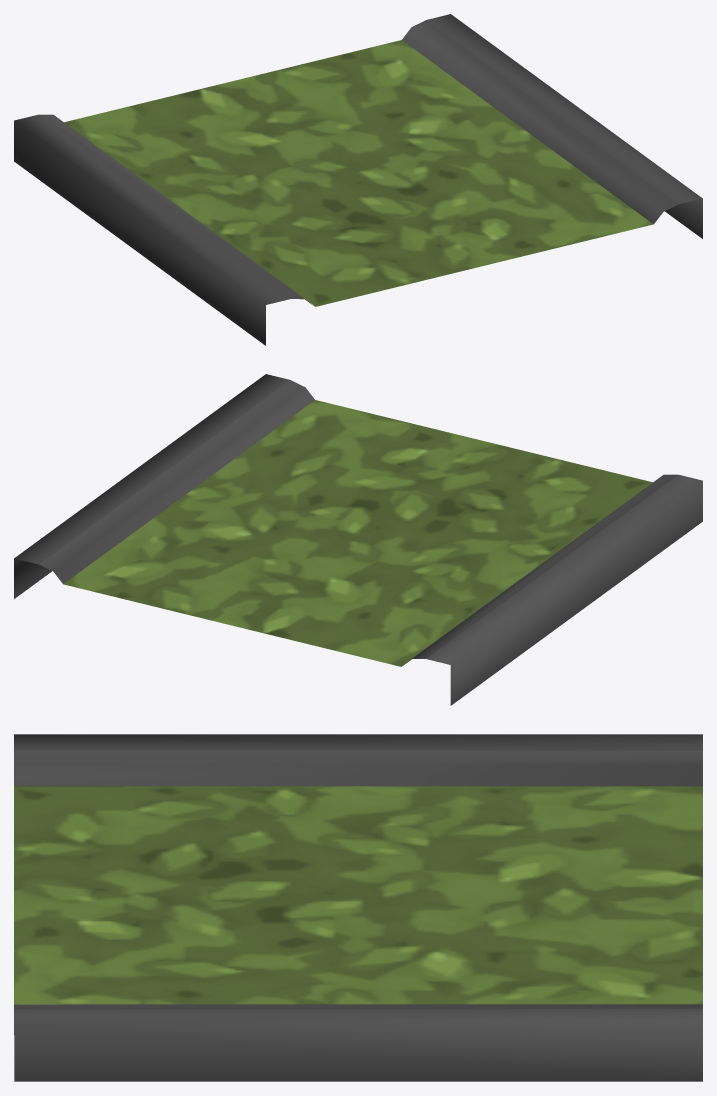
Rendered from GrassPlateau_Straight.fbx.
The picture shows the model from 3 angles, top to bottom: view 1: azimuth 30°, elevation 25°; view 2: azimuth 150°, elevation 25°; view 3: azimuth 270°, elevation 25°; orthographic projection. The views are drawn at different scales.
Visible parts, largest first — view 1: Straight_End.002; view 2: Straight_End.002; view 3: Straight_End.002.
Part boxes in pixels (left/top/right/bottom): Straight_End.002: left=14, top=14, right=702, bottom=345; Straight_End.002: left=14, top=374, right=702, bottom=705; Straight_End.002: left=14, top=734, right=702, bottom=1081.
Size of the model in its own units: 250 by 22.38 by 250.
